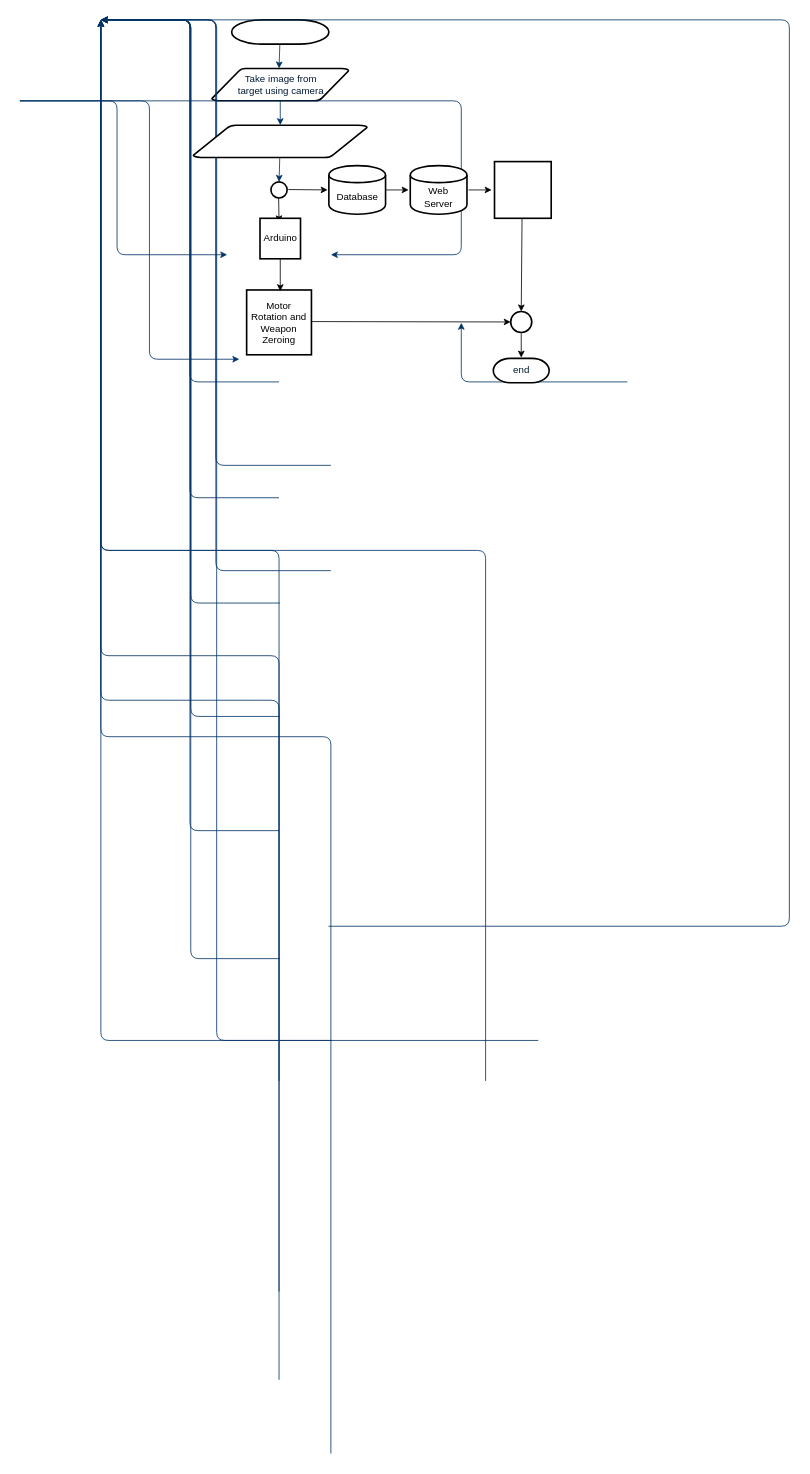
This 810x1474 diagram has some shape labels left out. Here are the shapes that lost their labels. From the top down, the centre of each, then its label:
At pixel 279 32: "start".
At pixel 280 141: "Process Image using App and calculate MPI".
At pixel 522 189: "Web Application".
